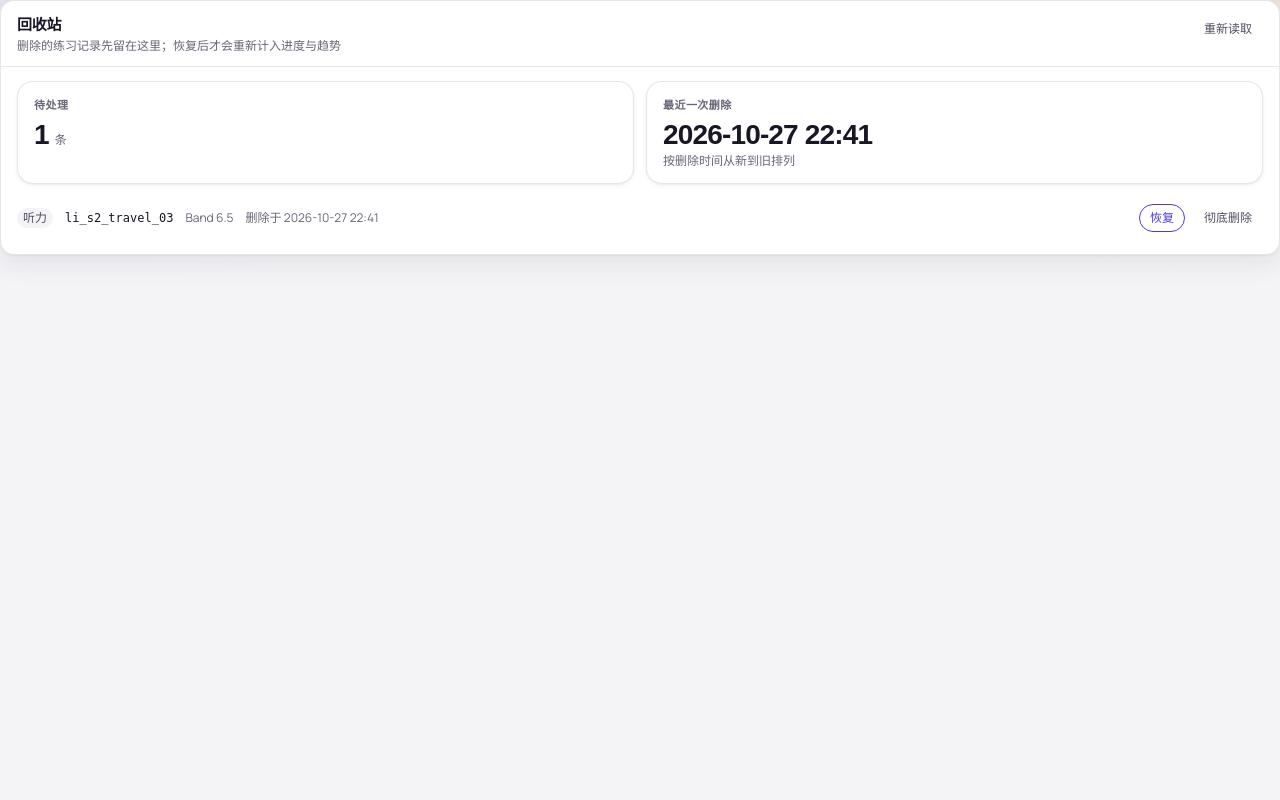
Test: 回收站（§14.8） › 彻底删除要先确认，确认后才发 purge
expect the list named "回收站里的练习记录" is shown: met, box [17,196,1263,240]
What coordinates should you click on to do the following:
click the button "彻底删除"
I would click on:
 (1228, 218)
Its box is [1193,204,1263,232].
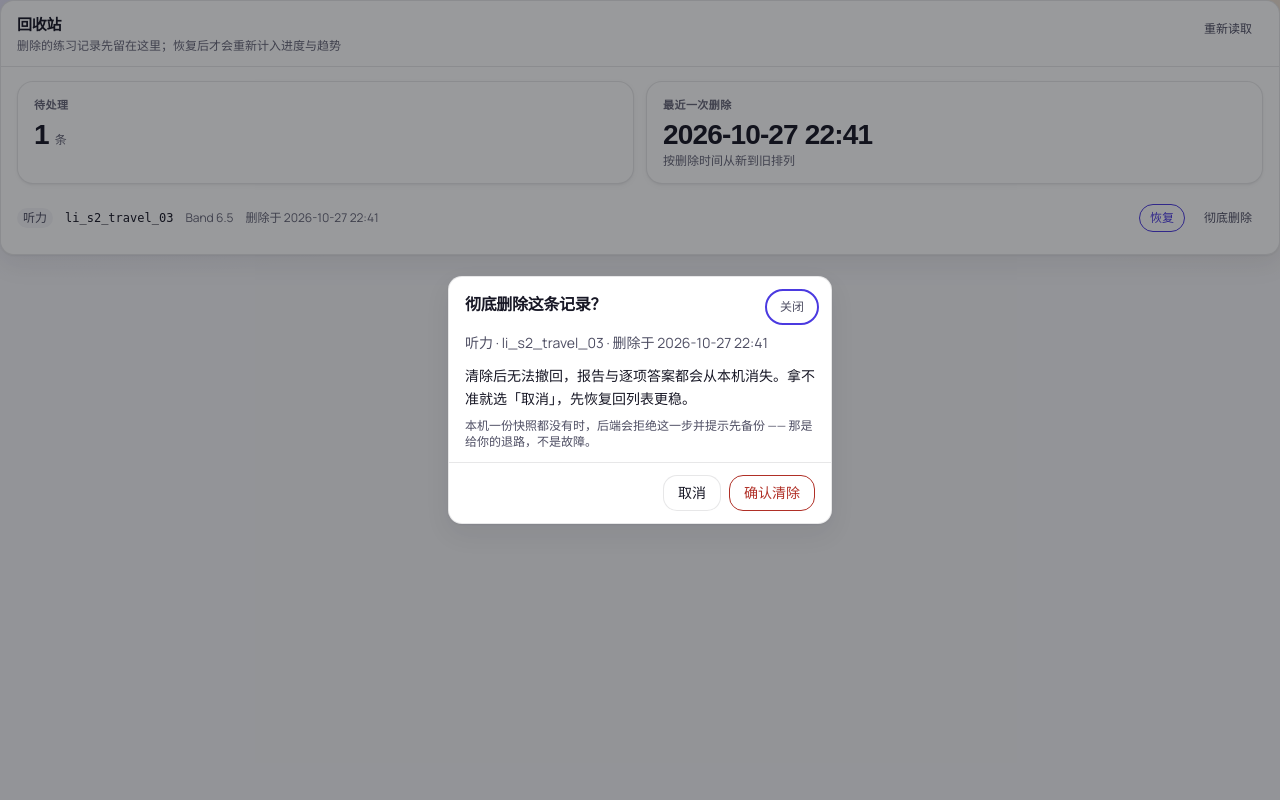
What coordinates should you click on to do the following:
click the button "确认清除"
I would click on:
 (772, 493)
Its box is [729,475,815,511].
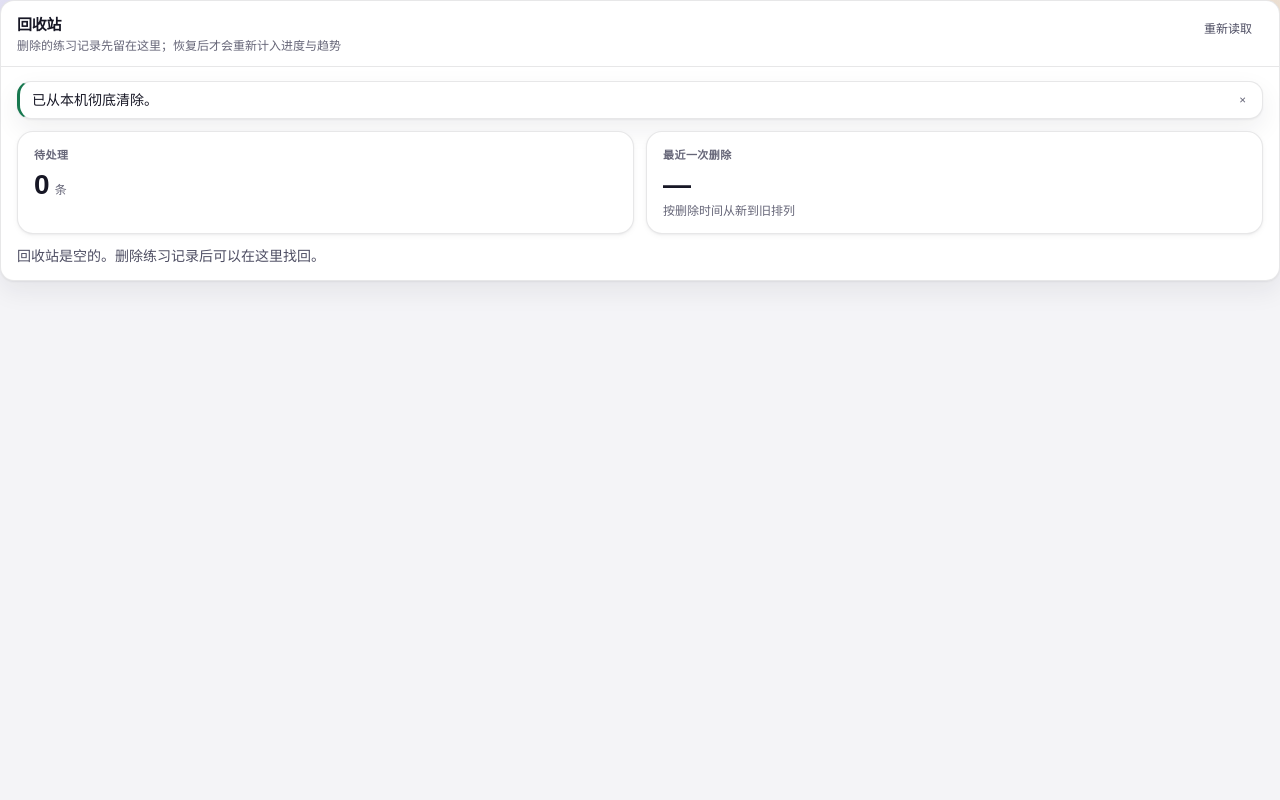
expect the text "回收站是空的。删除练习记录后可以在这里找回。" is shown: met, box [17,246,325,265]
